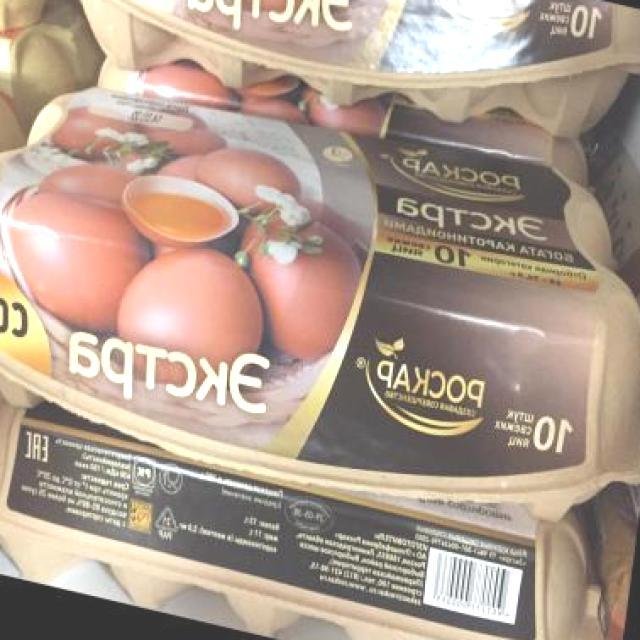Eggs: (0, 42, 640, 568), (37, 0, 640, 179)
